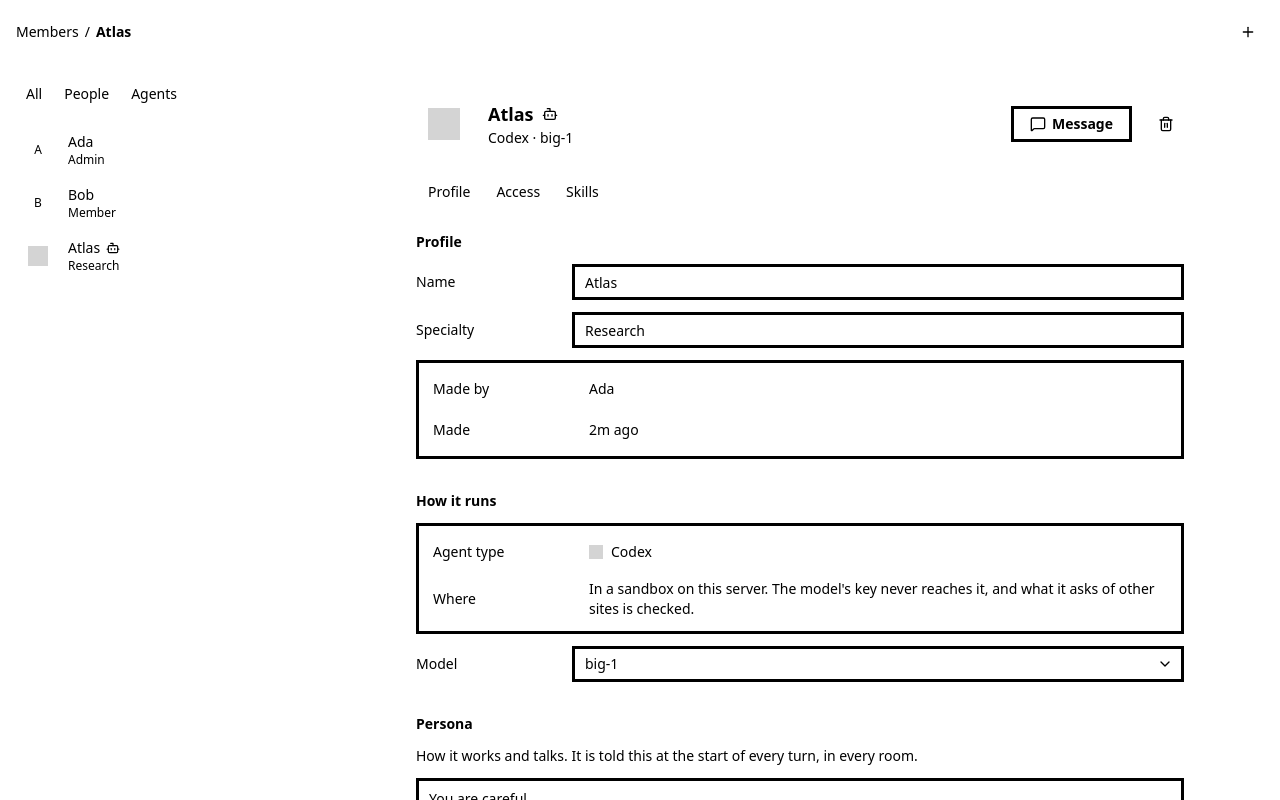
Test: the members layout › reads the list once while whoever is open beside it changes
What coordinates should you click on to do the following:
click the link with test id "member-row" showing "A Ada Admin"
I would click on:
 (70, 150)
Its box is [34,132,105,168].
(page scrolled)
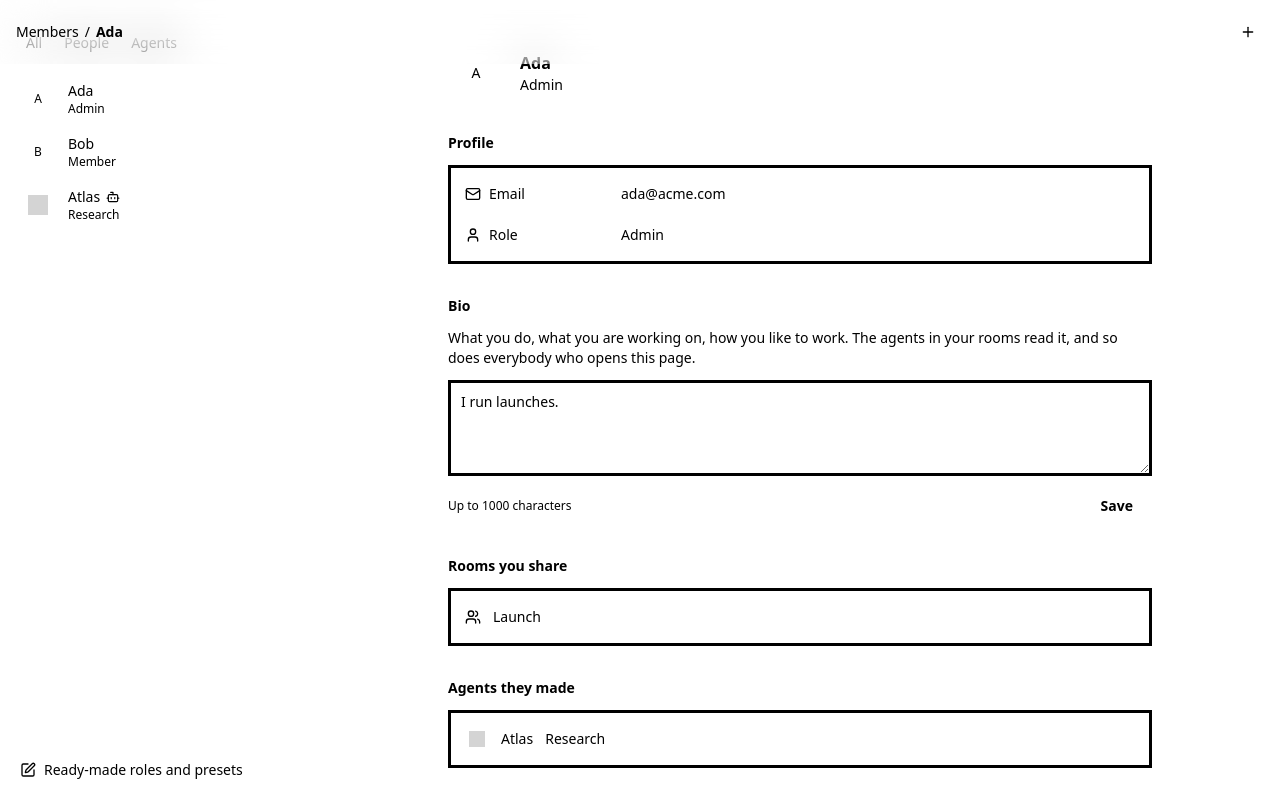
Expected: the element with test id "person-page" is shown, [416,13,1184,799]
